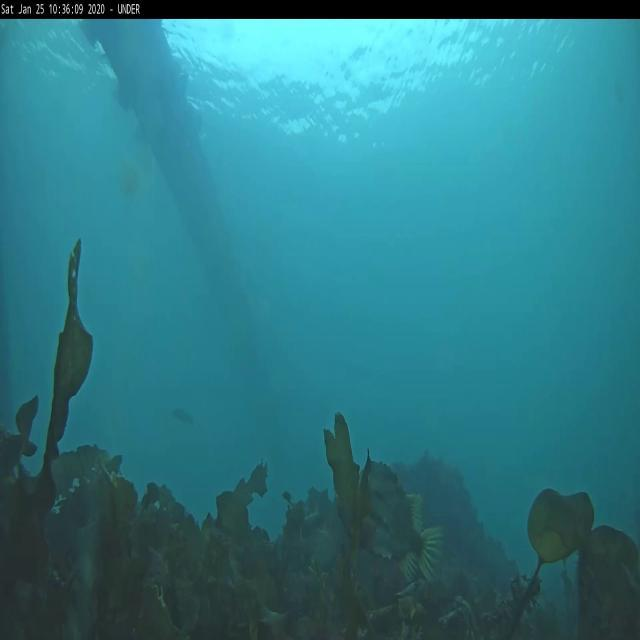fish: (169, 404, 197, 424)
